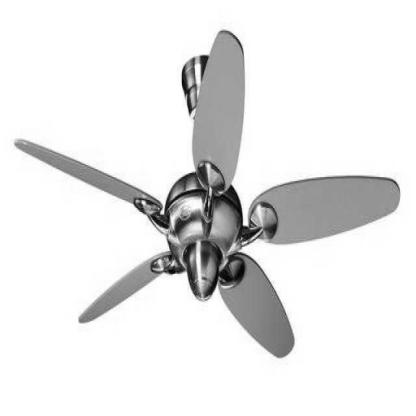ceiling-fan: (11, 30, 400, 358)
